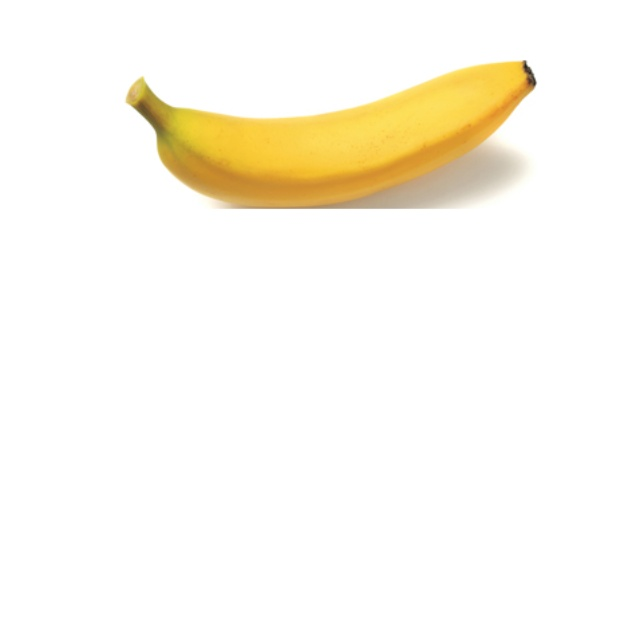chuoi: (156, 62, 538, 210)
